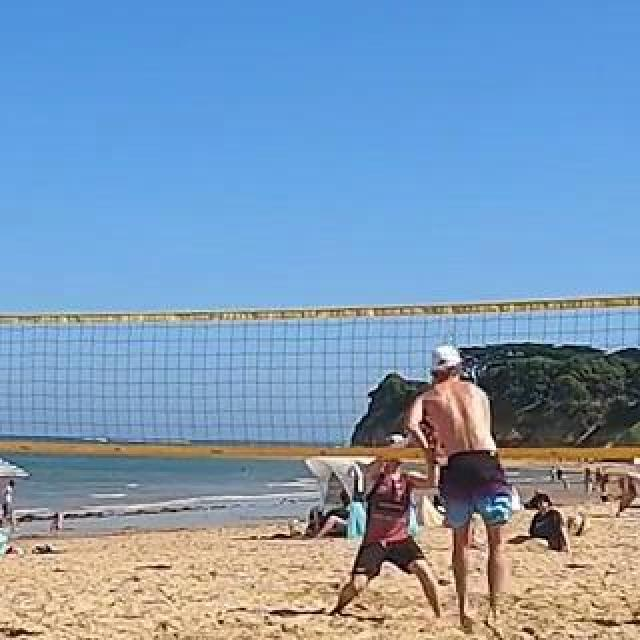volleyball: (567, 512, 589, 538)
